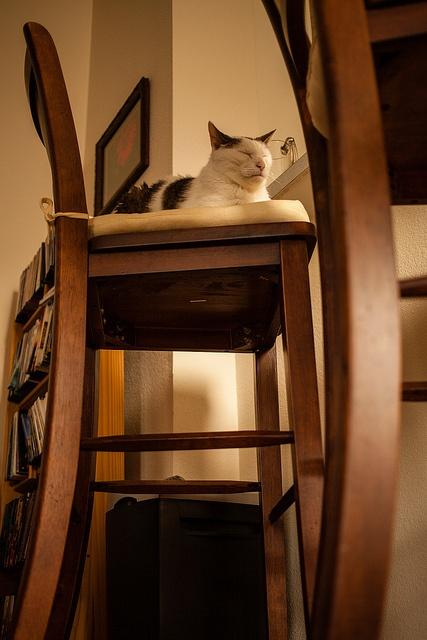Kursi: (20, 20, 328, 639)
